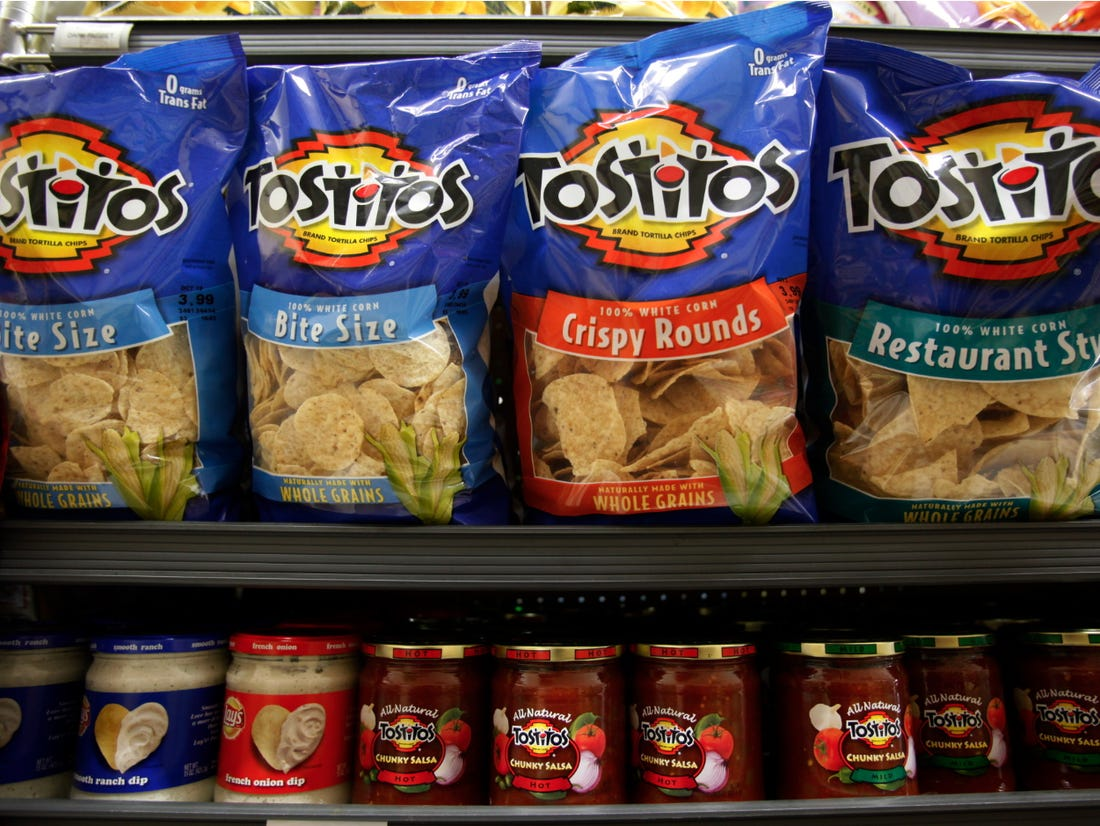chip: (538, 10, 832, 519), (251, 50, 547, 521), (844, 56, 1096, 513), (1, 39, 249, 501)
